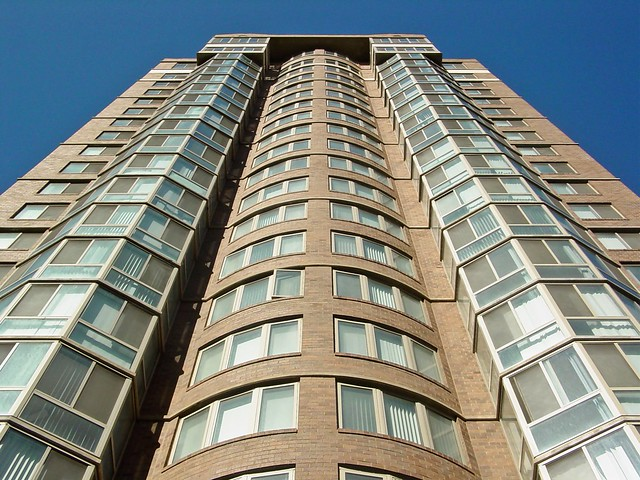high: (4, 27, 640, 480)
